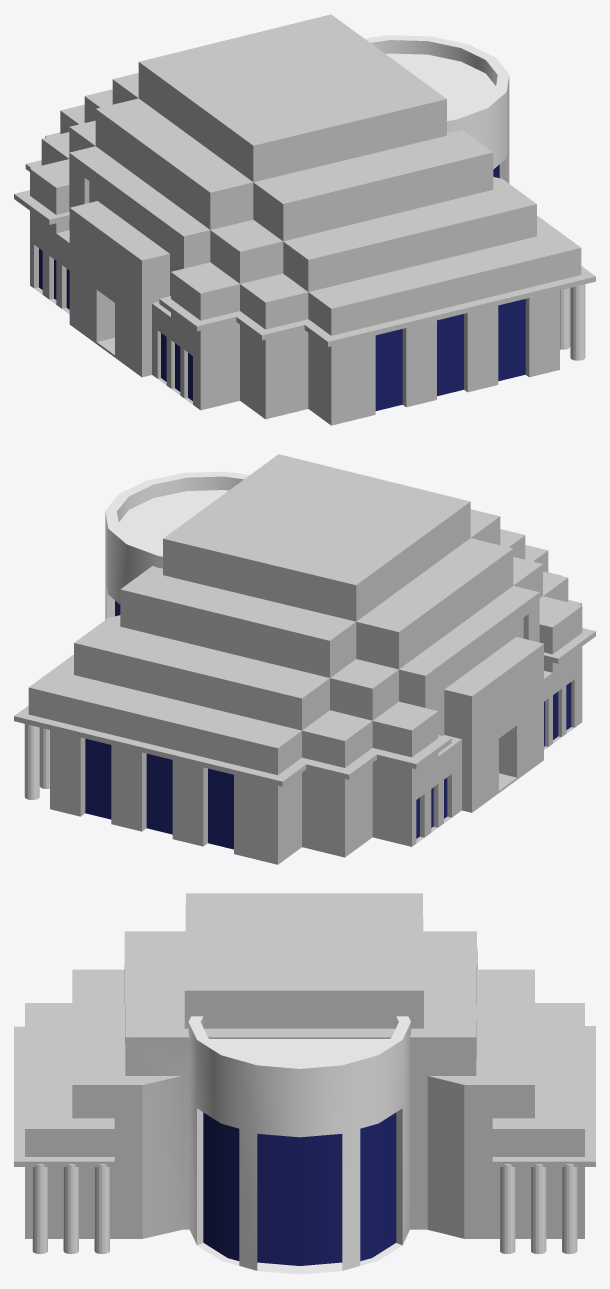
Rendered from paris_hotel_du_collectionneur.glb.
3 views of the same model, one above another, from view 1: azimuth 30°, elevation 25°; view 2: azimuth 150°, elevation 25°; view 3: azimuth 270°, elevation 25° (orthographic). The views are drawn at different scales.
Parts seen in each view (by area): view 1: Cube, Cylinder.002; view 2: Cube, Cylinder.001; view 3: Cube, Cylinder.002, Cylinder.001.
Part boxes in pixels (<box>): Cube: <box>14,14,595,425</box>; Cylinder.002: <box>560,284,585,360</box>; Cube: <box>14,454,595,864</box>; Cylinder.001: <box>24,724,49,799</box>; Cube: <box>14,893,595,1274</box>; Cylinder.002: <box>32,1164,109,1254</box>; Cylinder.001: <box>500,1164,577,1254</box>.
Bounding box in the file's own units: 0.6991 × 0.383 × 0.8744.
